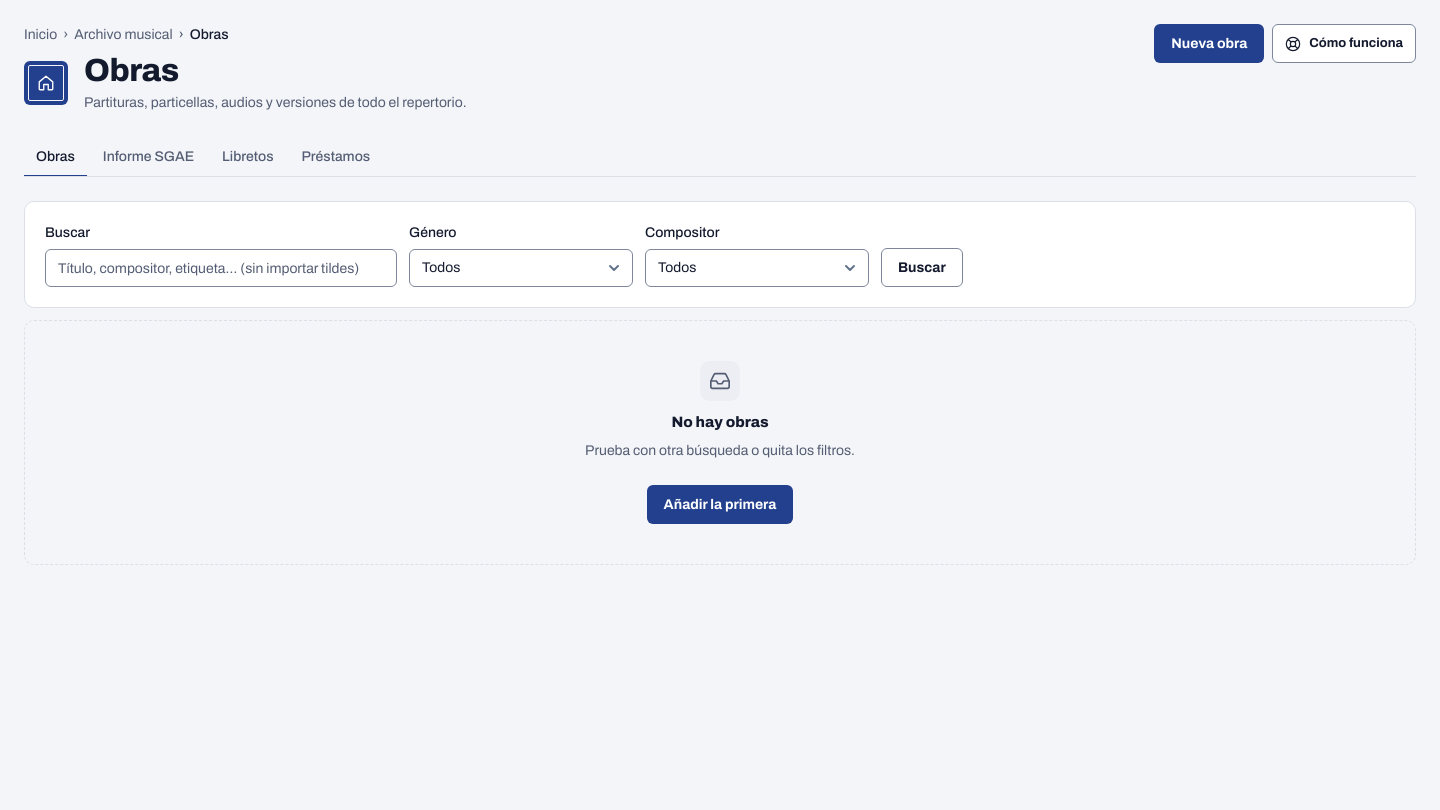
it: Archivo: pestañas › muestra Obras, Informe SGAE, Libretos y Préstamos y avisa de que el informe no es oficial
Step 1. Click the tab "Informe SGAE" → (148, 157), box top-left (91, 137), bottom-right (206, 177)
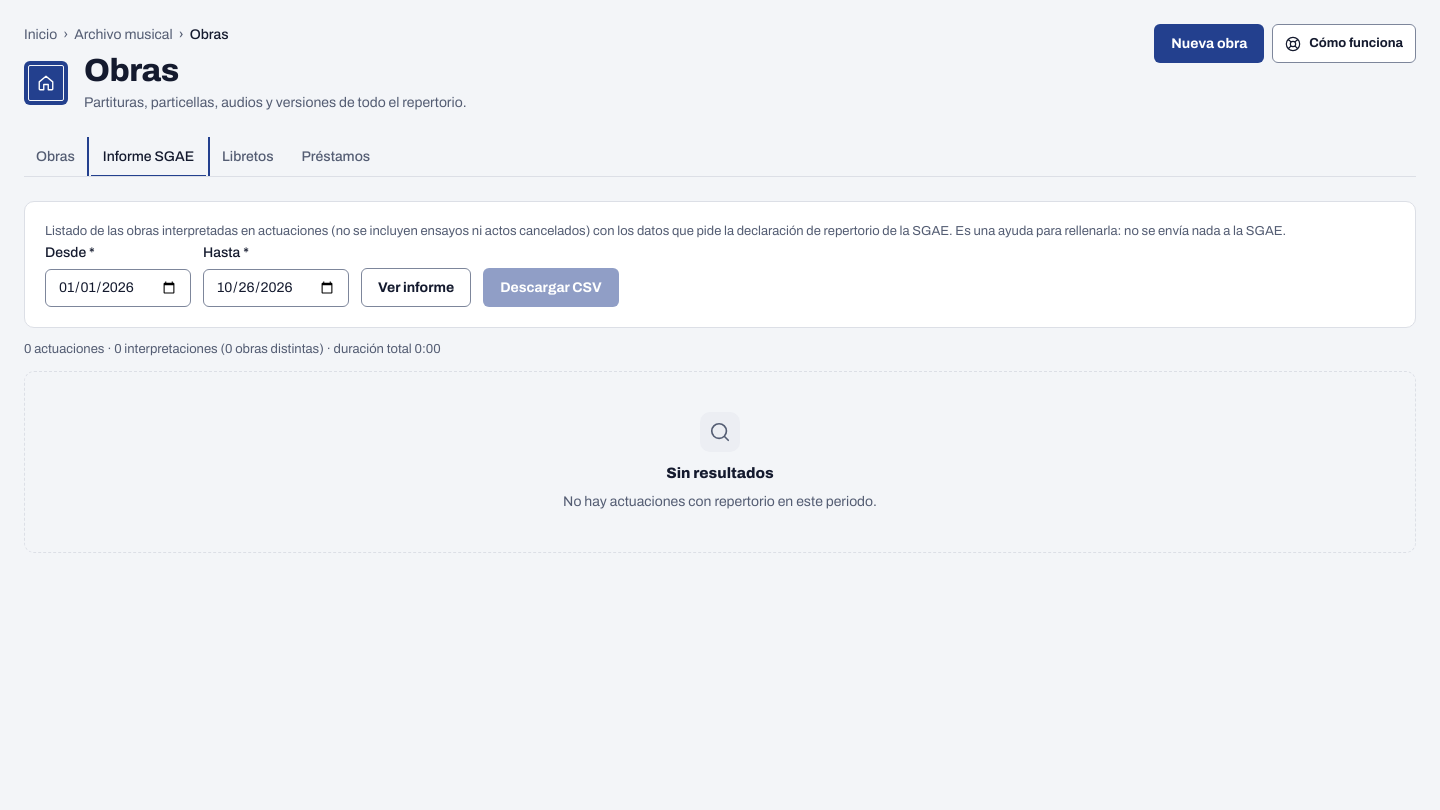
Check: the text "no se envía nada a la SGAE" is shown, box top-left (45, 224), bottom-right (1286, 238)
Check: the date field labelled "Desde *" is shown, box top-left (45, 269), bottom-right (191, 307)
Step 2. Click the tab "Préstamos" → (336, 157), box top-left (290, 137), bottom-right (382, 177)
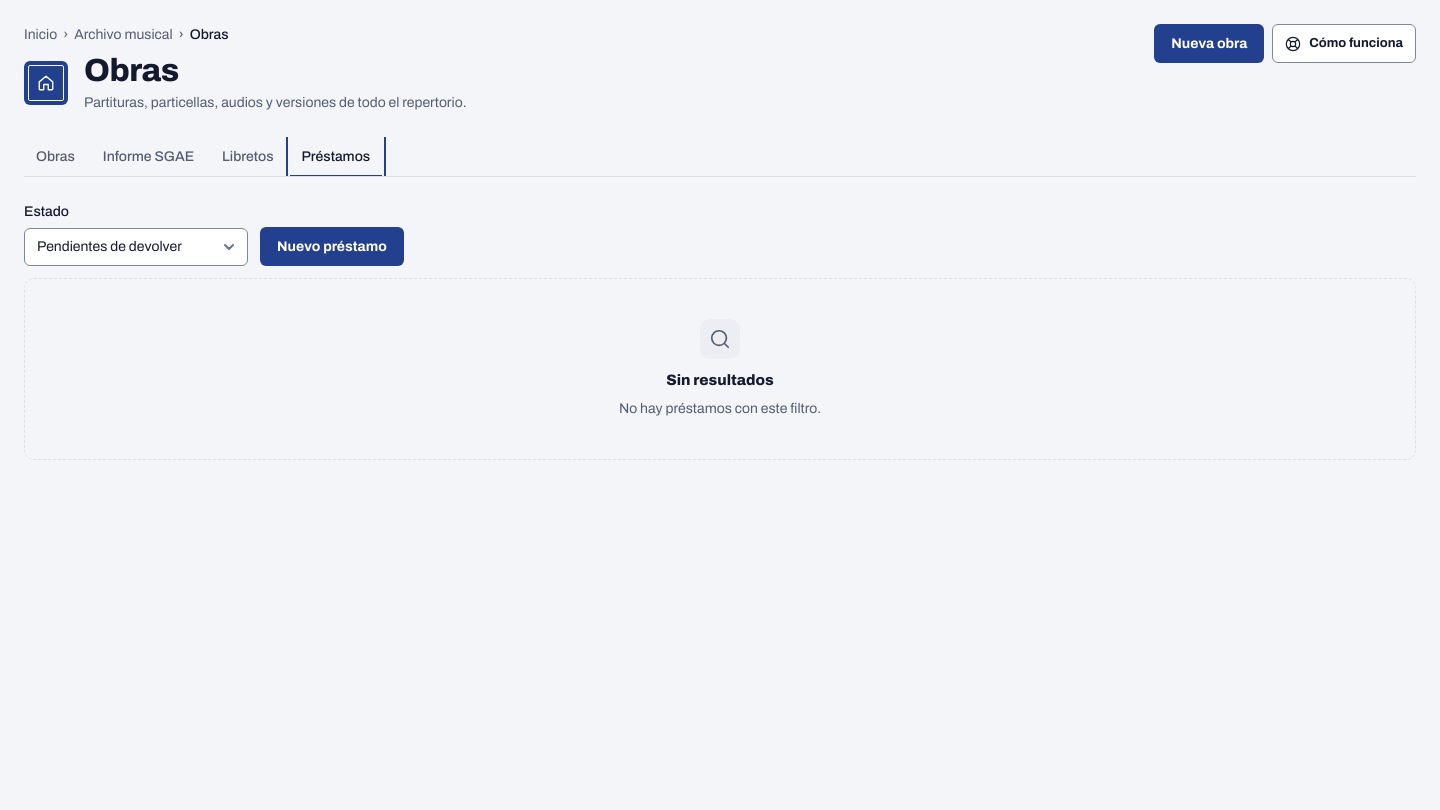
Check: the dropdown labelled "Estado" is shown, box top-left (24, 228), bottom-right (248, 266)
